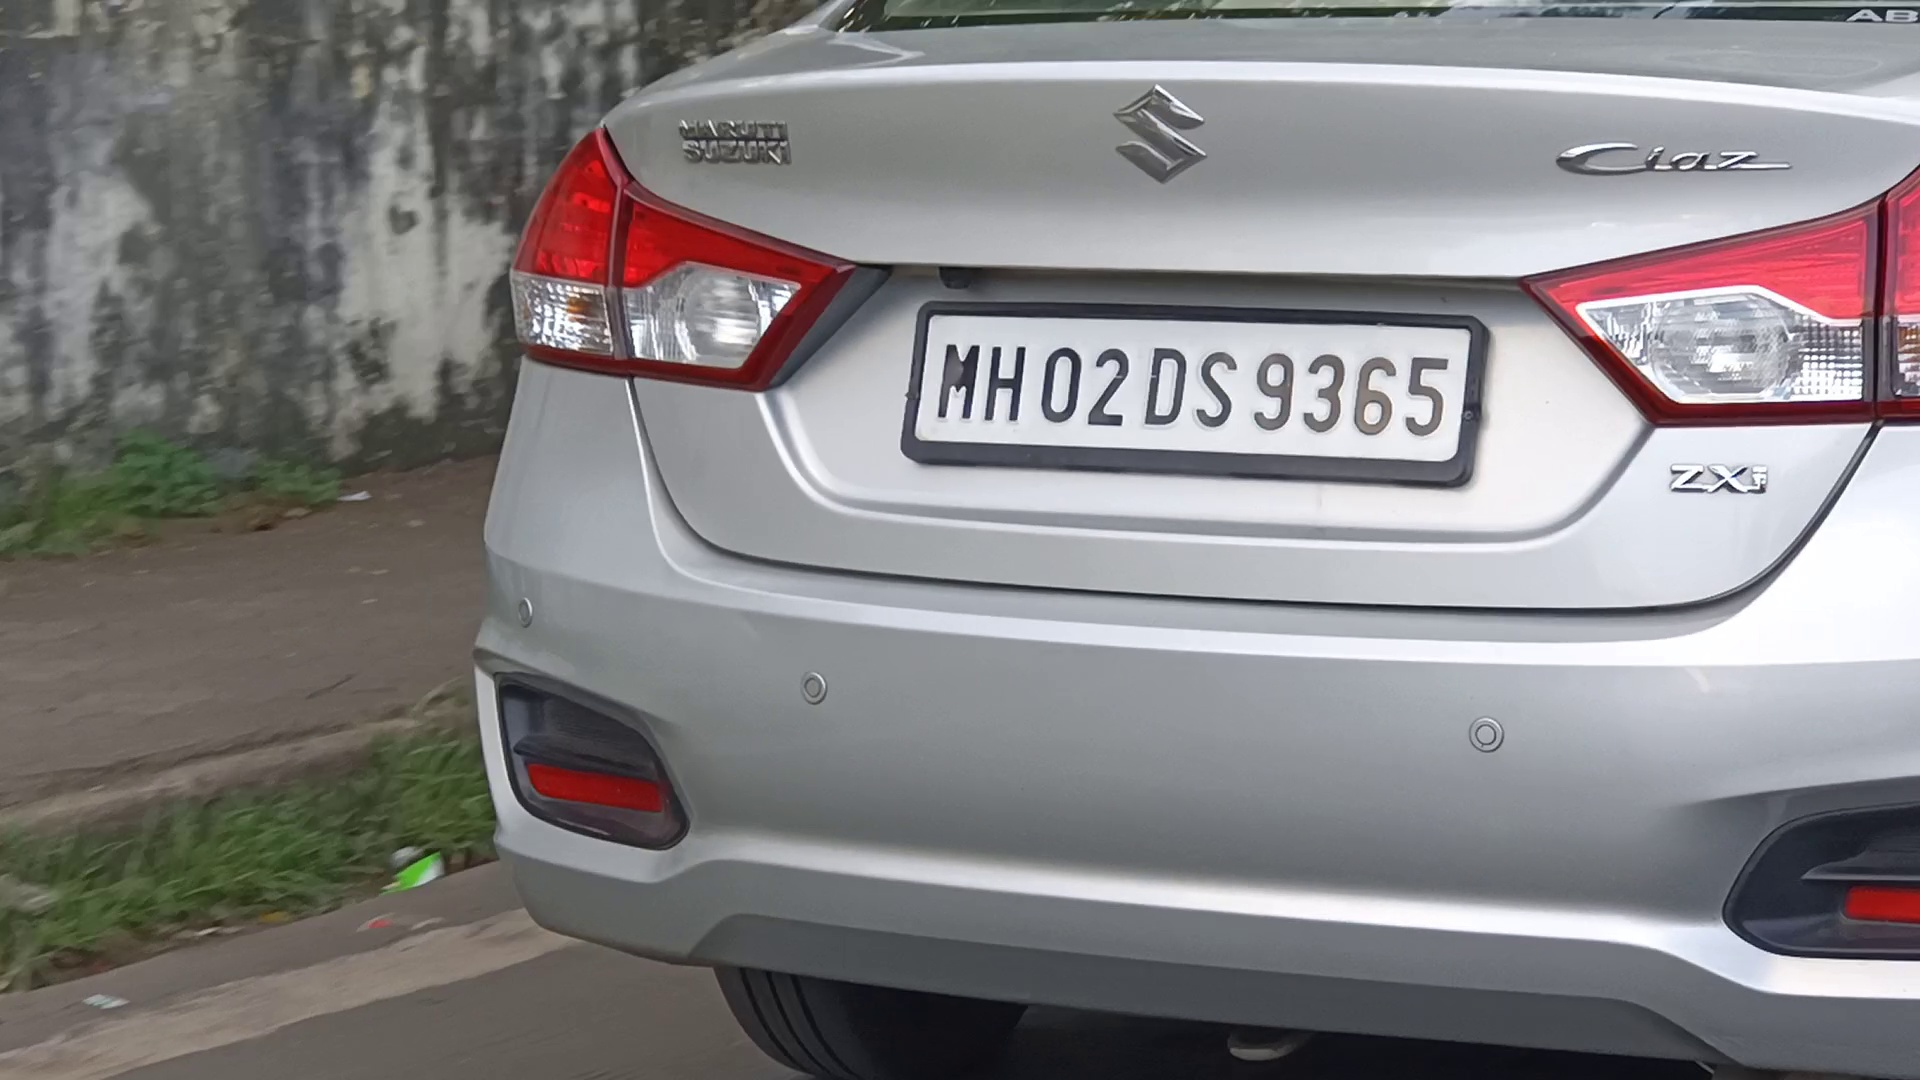MH02DS9365: (911, 308, 1471, 463)
